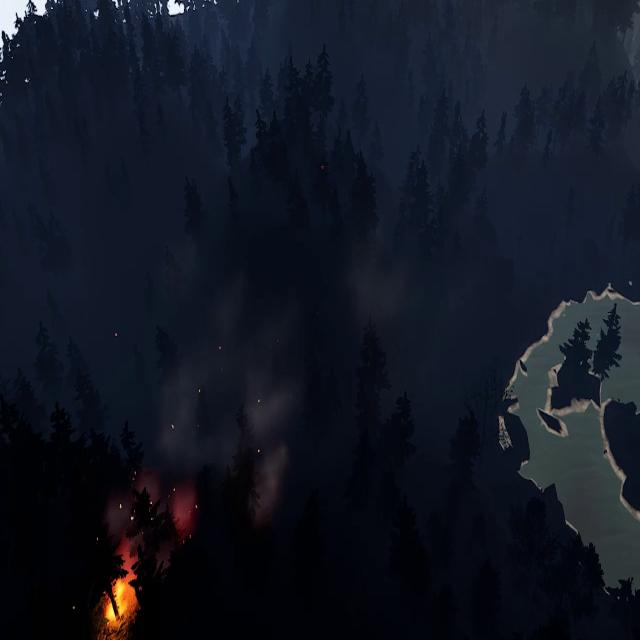fire: (102, 568, 138, 631)
smoke: (100, 222, 302, 564)
